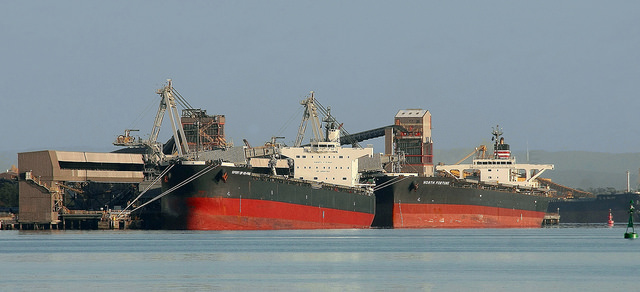bulk carrier: (170, 117, 377, 228), (381, 135, 557, 227)
